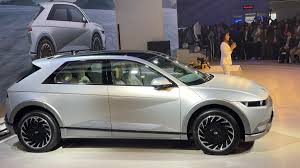Honda Ioniq: (4, 45, 278, 167)
